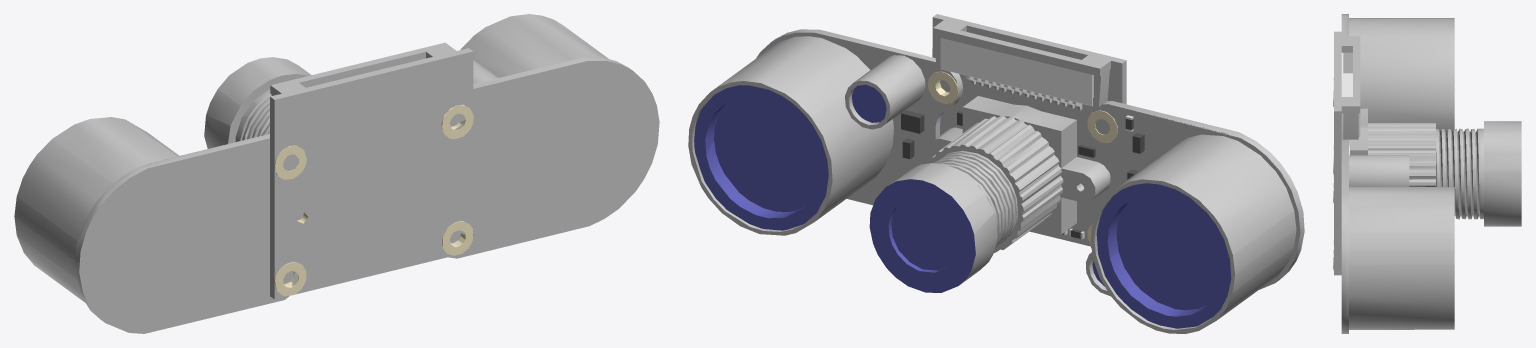
The picture shows the model from 3 angles, left to right: view 1: azimuth 30°, elevation 25°; view 2: azimuth 150°, elevation 25°; view 3: azimuth 270°, elevation 25°; orthographic projection. The views are drawn at different scales.
Visible parts, largest first — view 1: imagetostl_mesh1; view 2: imagetostl_mesh1; view 3: imagetostl_mesh1.
Part boxes in pixels (box(x1,y1,x2,y2)): imagetostl_mesh1: box(14, 14, 659, 333); imagetostl_mesh1: box(688, 14, 1304, 333); imagetostl_mesh1: box(1333, 14, 1521, 333).
Size of the model in its own units: 7305 by 2498 by 2498.
